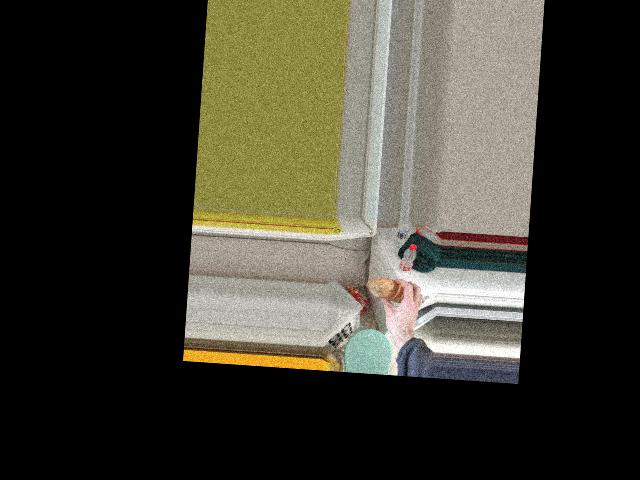sweet_potato: (374, 275, 408, 308)
